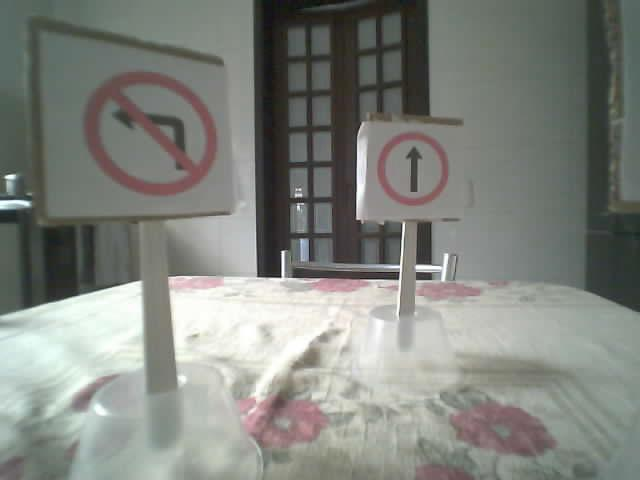R-26_frente: (377, 132, 448, 205)
R-4a_proibido-esquerda: (83, 68, 216, 195)
